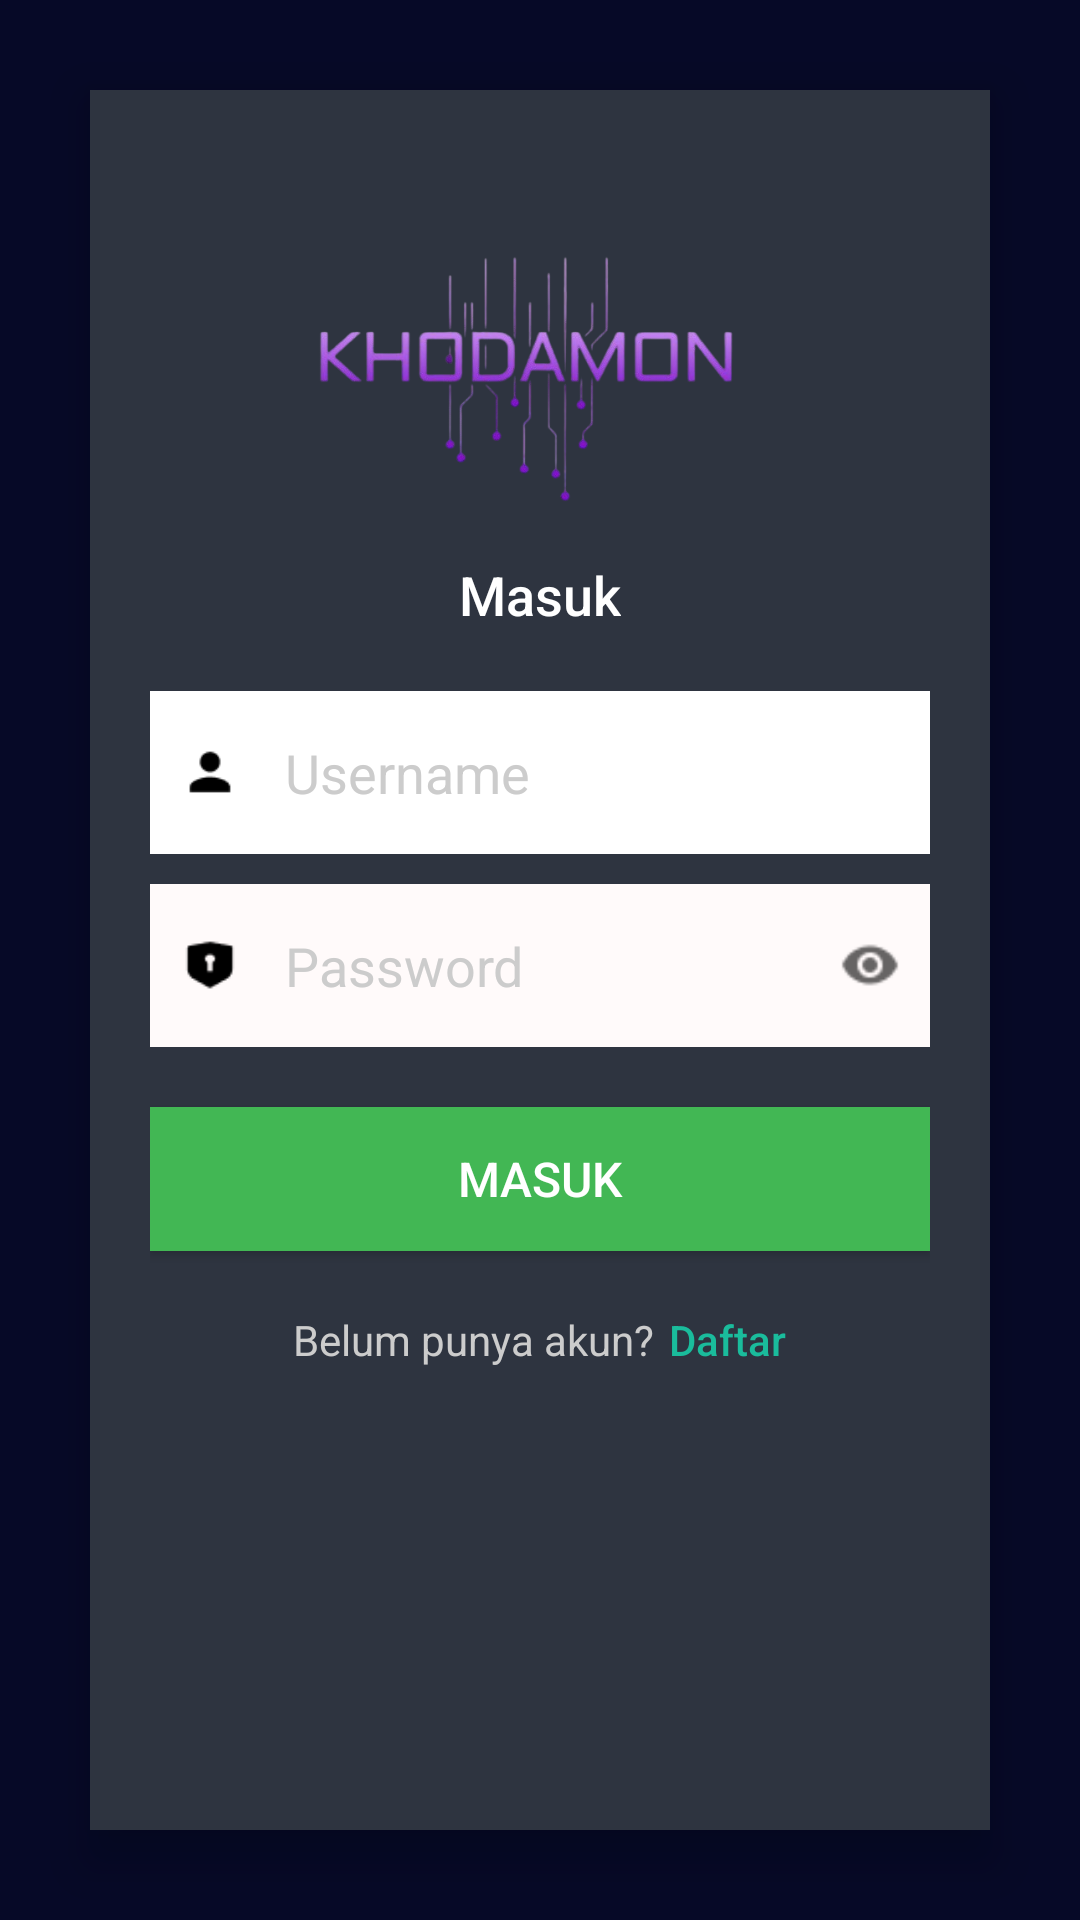

Named icons in this screenshot (1080w x 1920h) and their bounding boxes, (x1, y1, x2, y2):
iconuser: (189, 751, 231, 793)
kunci: (186, 941, 234, 989)
mata: (842, 945, 898, 985)
